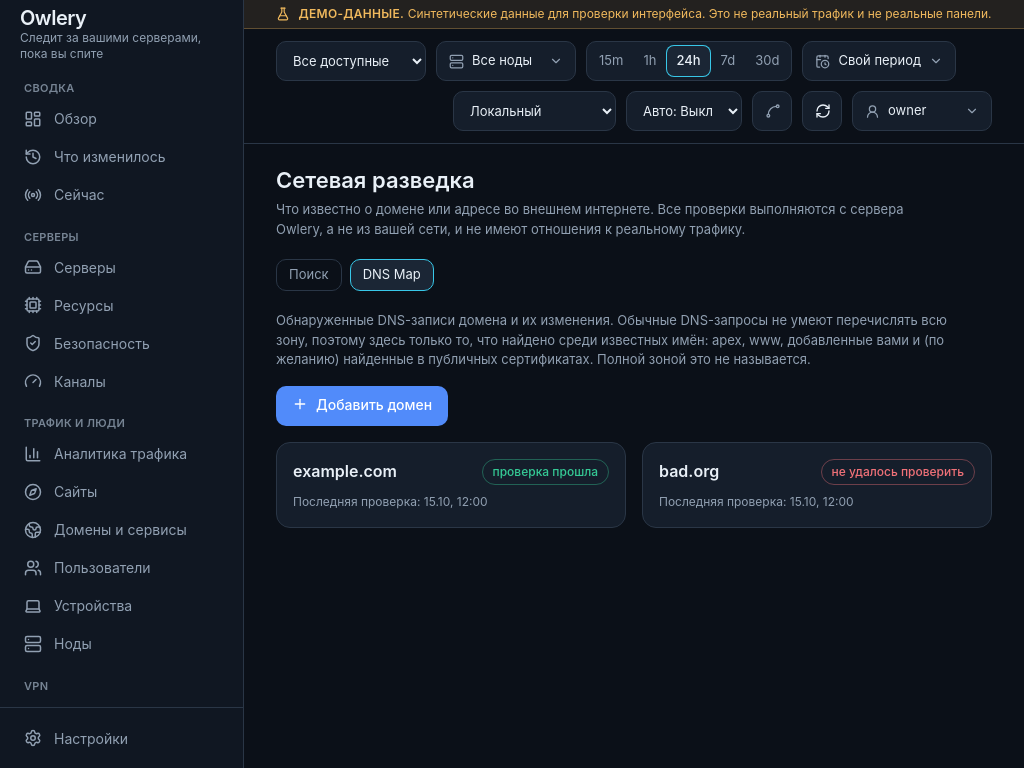
DNS Map › lists domains and will not create one until the scope is confirmed
expect the heading "example.com" is shown: met, box [293, 458, 397, 482]
expect the text "проверка прошла" is shown: met, box [482, 458, 609, 484]
Click the button "Добавить домен" at (362, 406), box [276, 386, 448, 426]
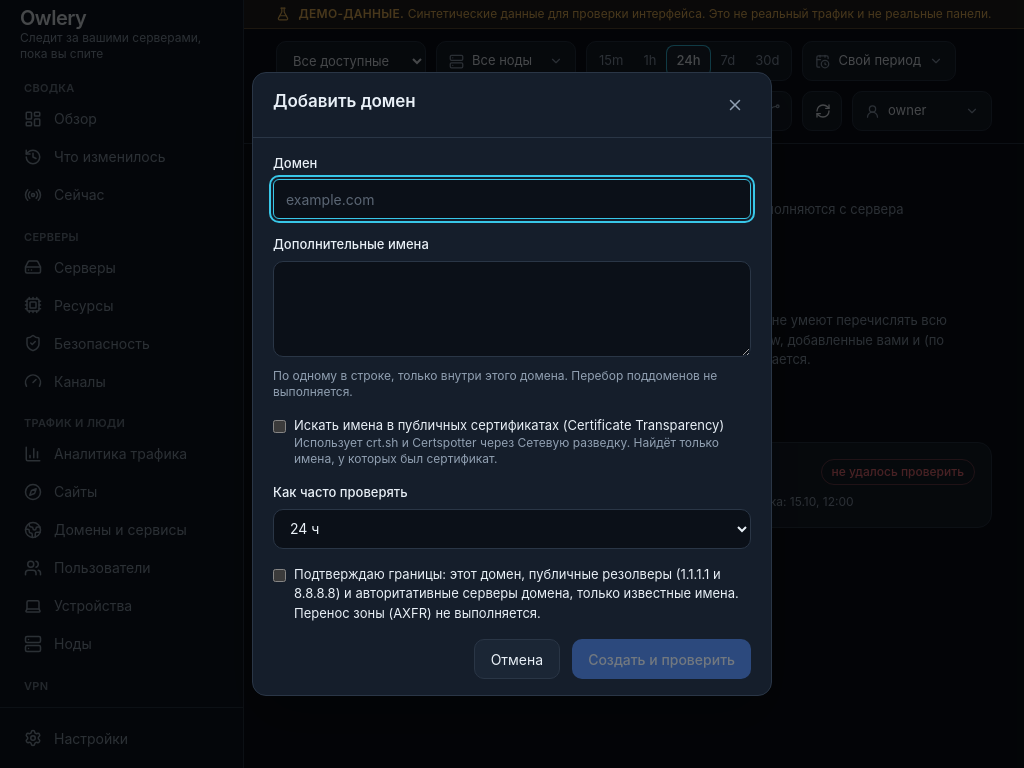
Type "new.example" into the field labelled "Домен" at (512, 199), box [273, 179, 751, 219]
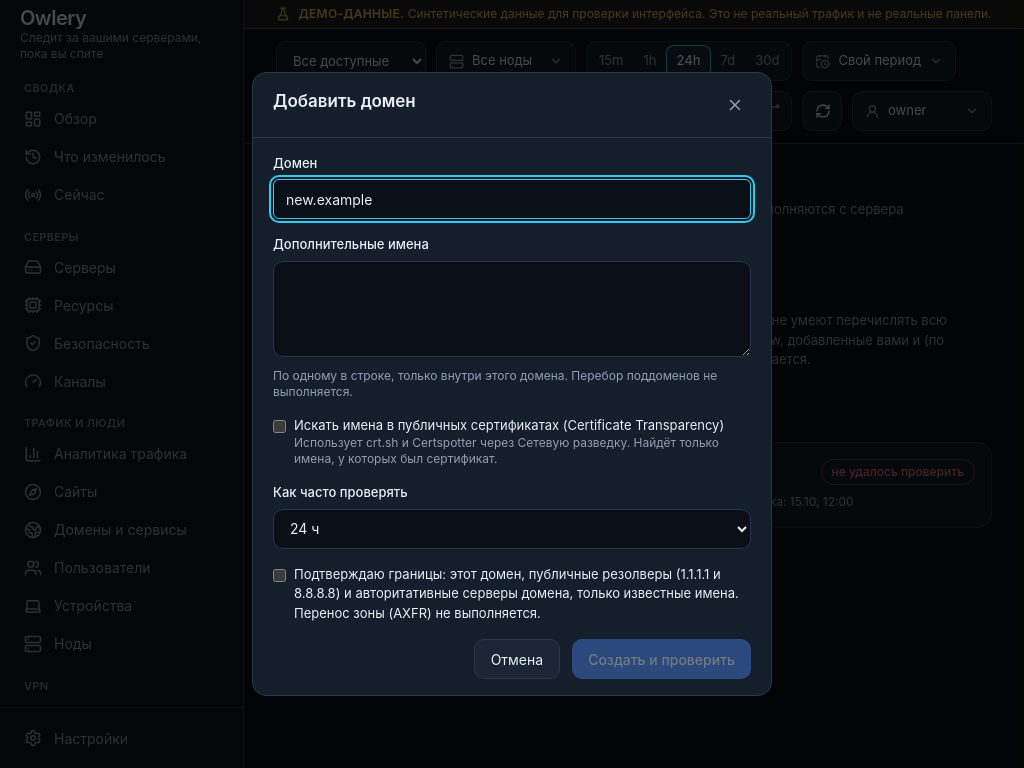
expect the button "Создать и проверить" is disabled: met, box [572, 639, 751, 679]
Click the checkbox labelled "Подтверждаю границы" at (280, 575), box [273, 569, 286, 582]
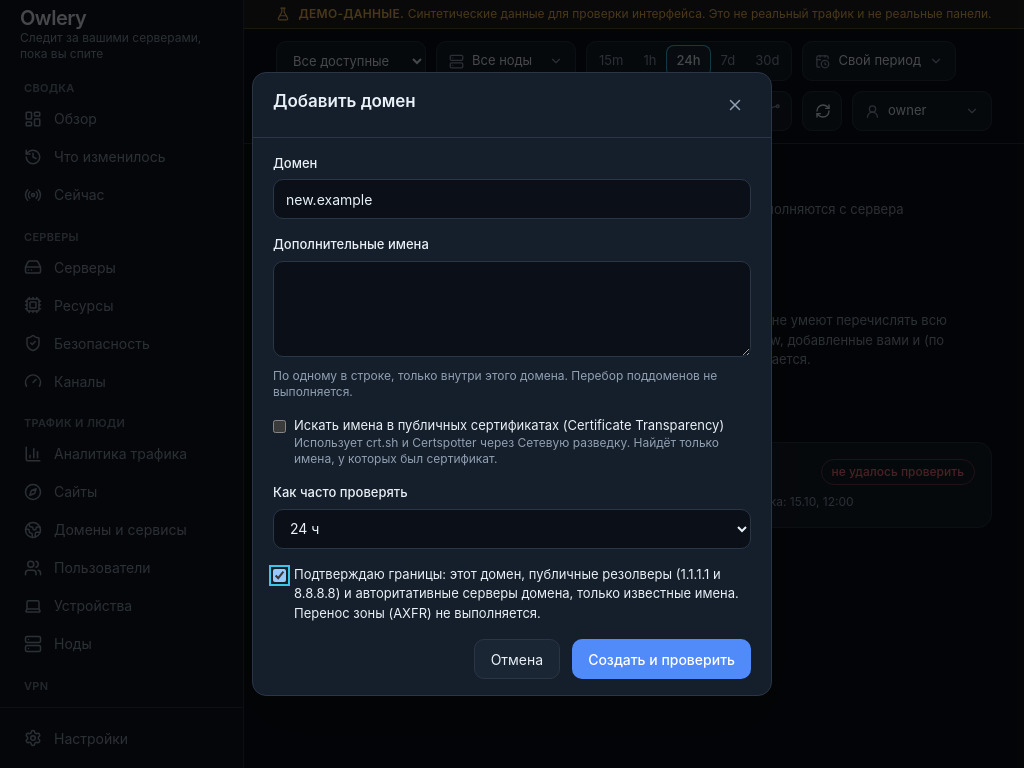
Click the button "Создать и проверить" at (662, 659), box [572, 639, 751, 679]
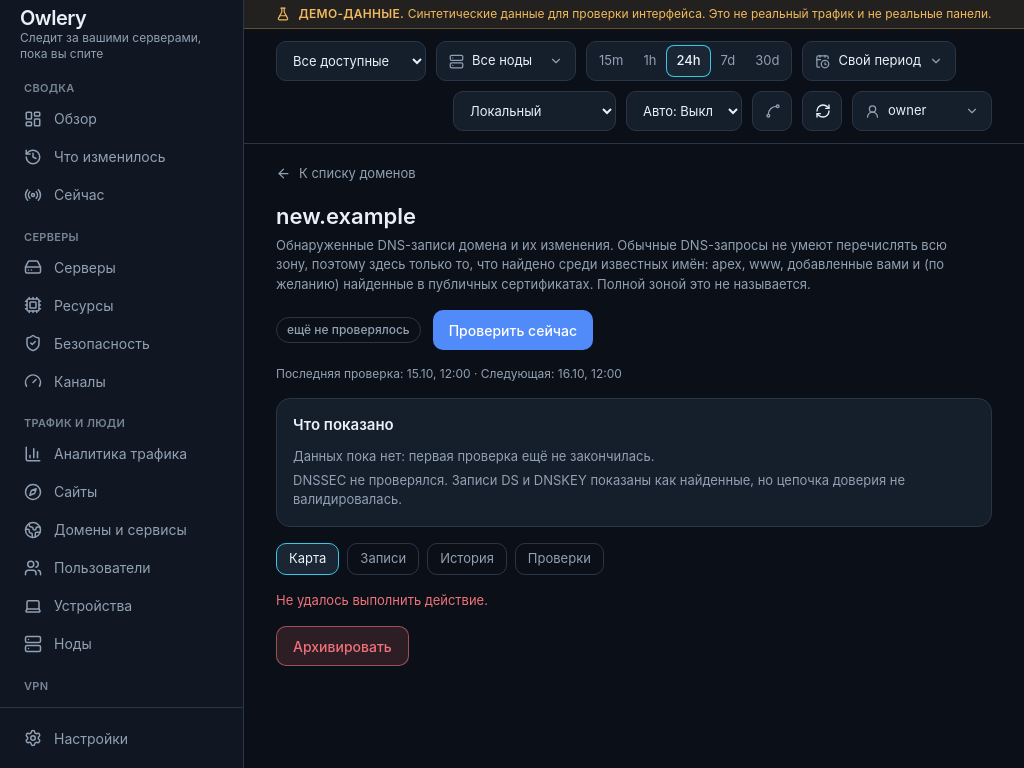
expect the heading "new.example" is shown: met, box [276, 202, 416, 228]
